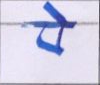e_matra: (42, 2, 70, 22)
